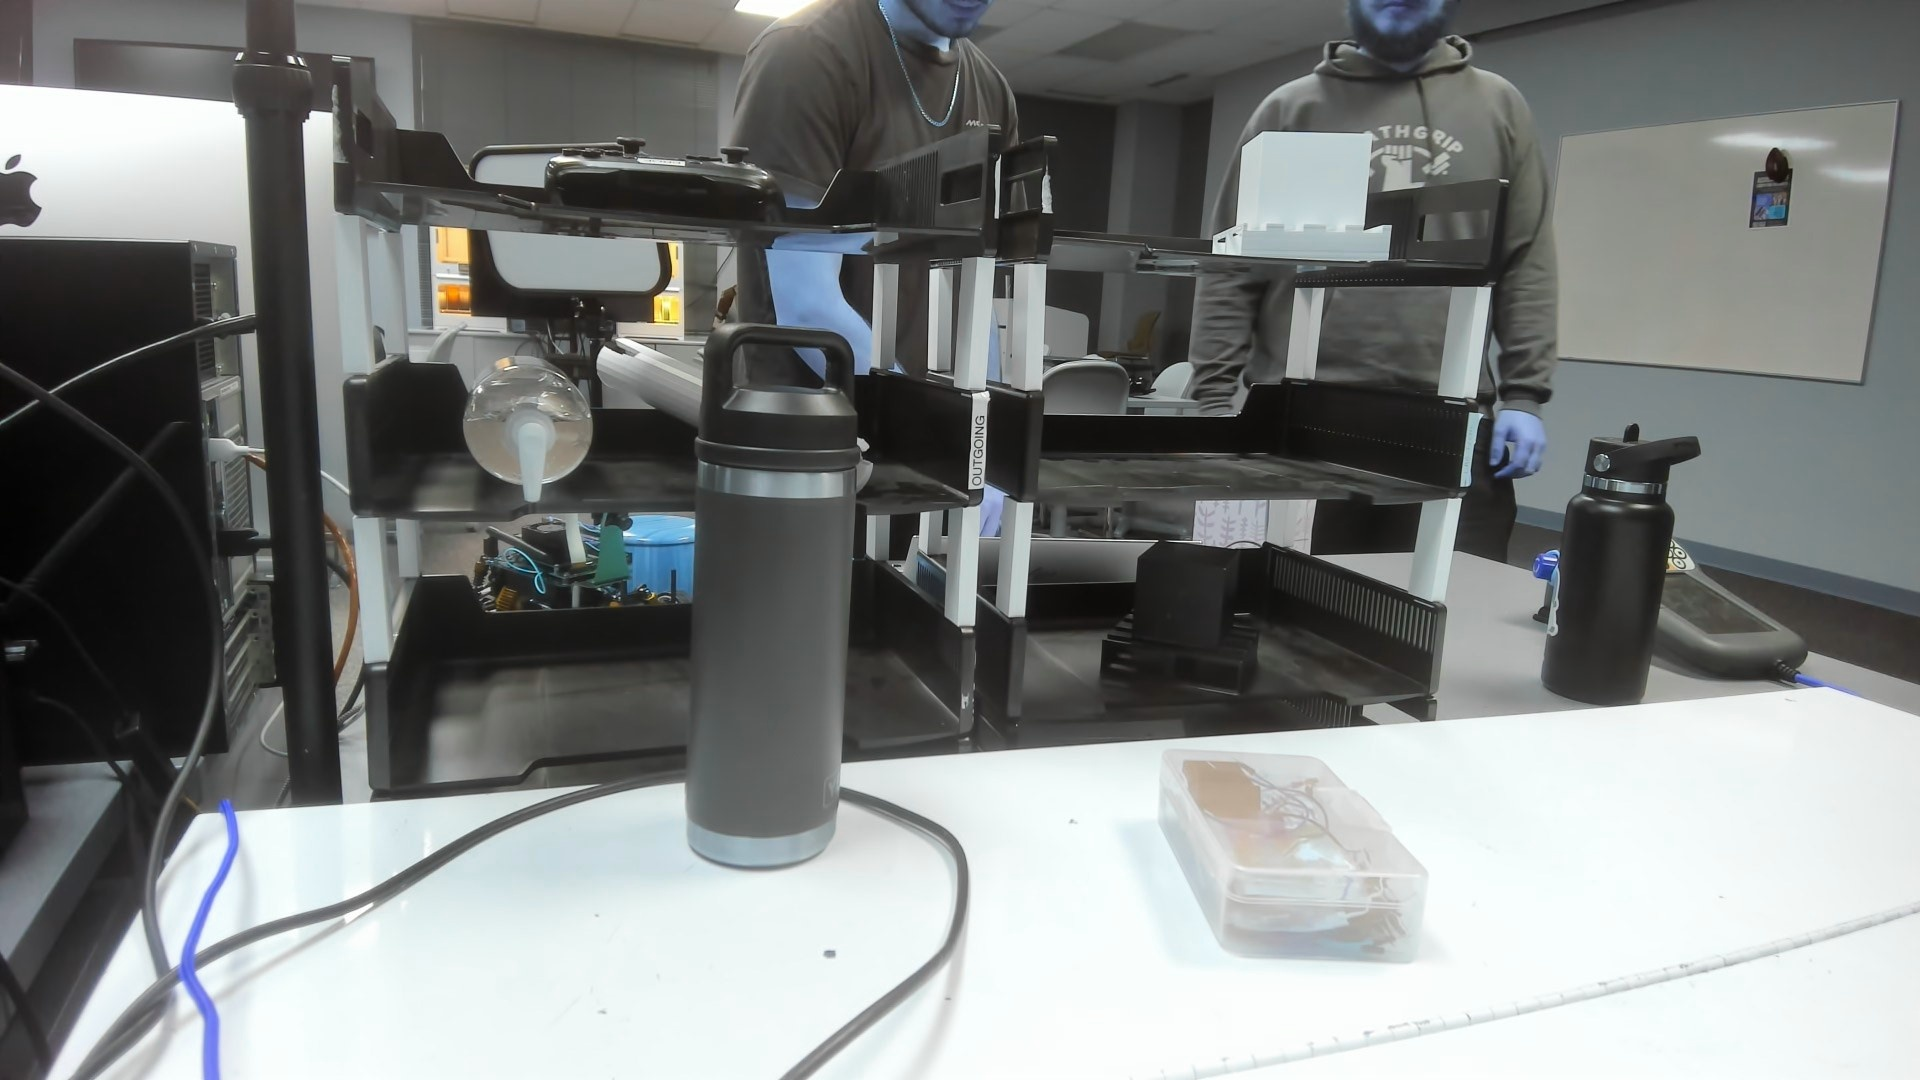black pallet: (1096, 535, 1275, 702)
white pallet: (1208, 123, 1394, 269)
